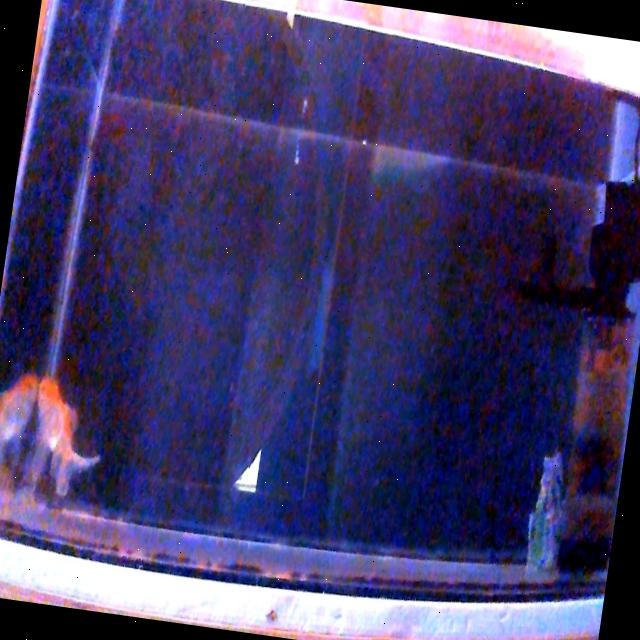fish: (23, 375, 111, 503), (0, 363, 43, 491)
